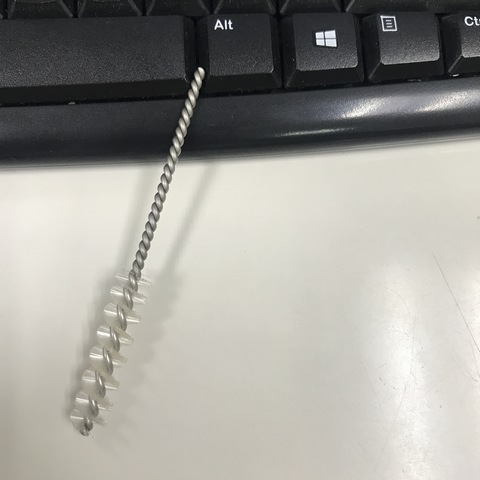Twist Brush-B: (67, 62, 207, 439)
